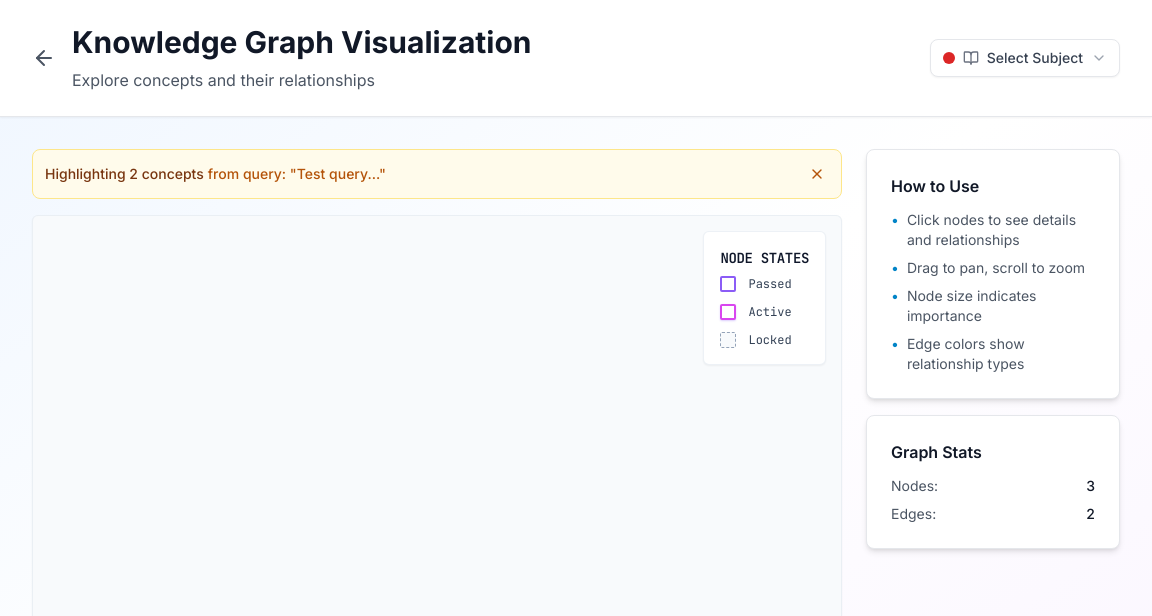
Scenario: GraphPage › Highlighted Concepts › clears highlighted concepts when X button is clicked
The image size is (1152, 616).
Expected: the text "Highlighting 2 concepts" is shown, [45, 164, 386, 184]
Click the button named "clear highlights" at (817, 174), box [805, 162, 829, 186]
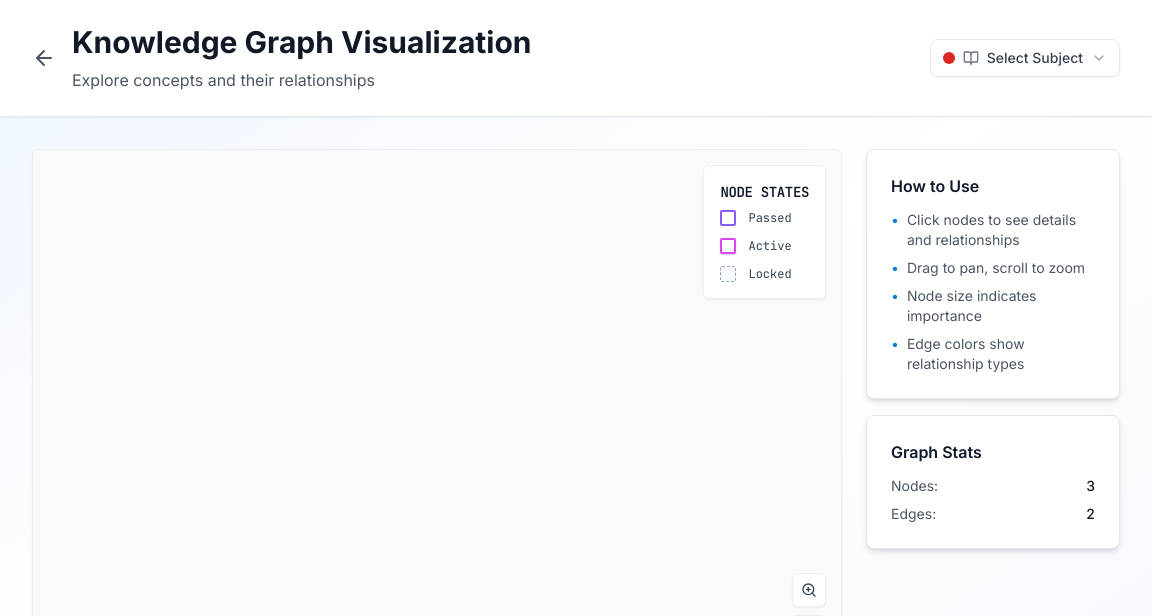
Expected: the text "Highlighting" is gone
